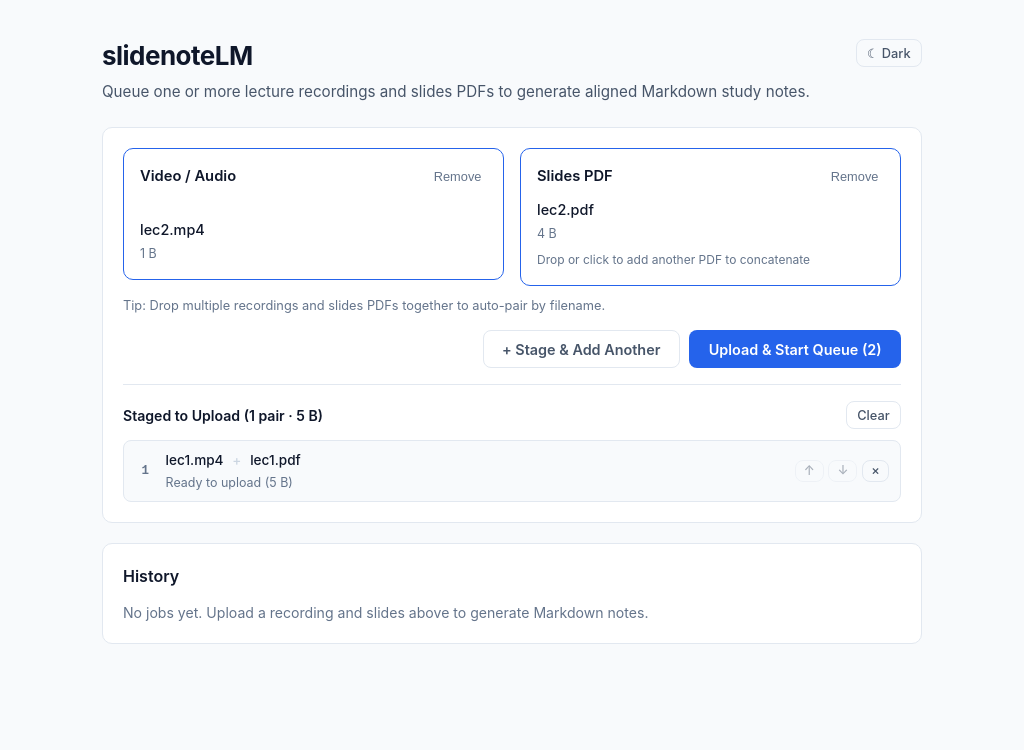
Test: slidenoteLM App › stages multiple pairs, reorders them, and uploads sequentially one at a time
The image size is (1024, 750).
Earlier steps of the test are not shown.
Later steps or results of the test are not shown.
Click the button "+ Stage & Add Another" at x=581, y=349, box [483,330,680,368]
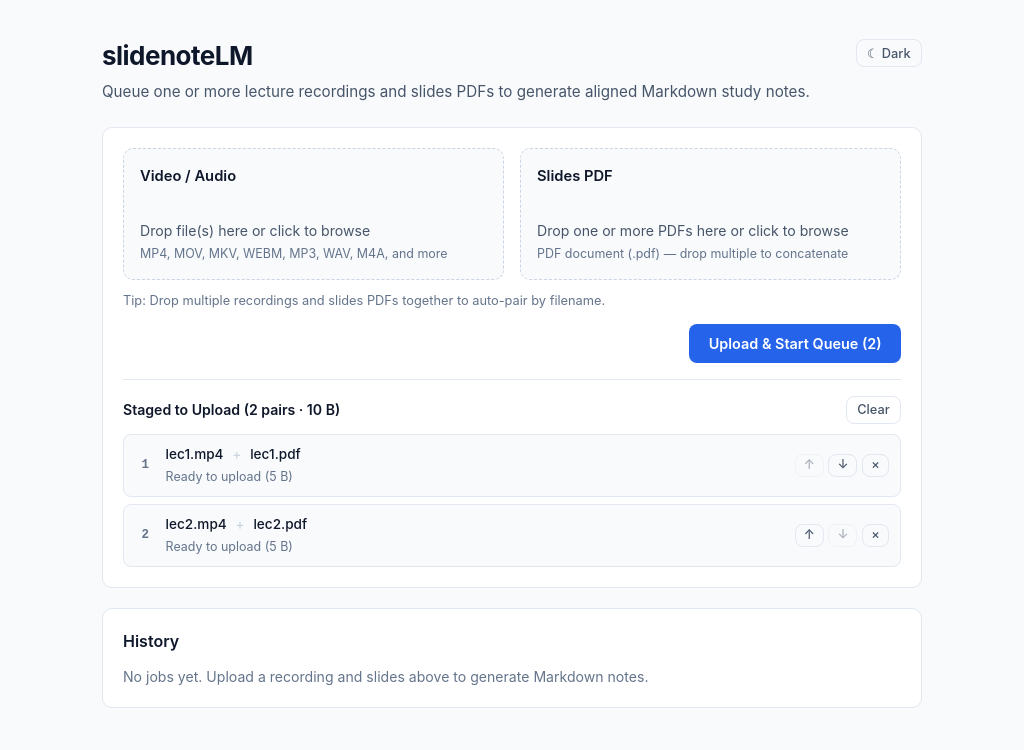
Now the text "Staged to Upload (2 pairs · 10 B)" is shown, box [123,399,340,420]
Click the button named "Move staged pair lec2.pdf up" at x=809, y=535, box [795,524,824,547]
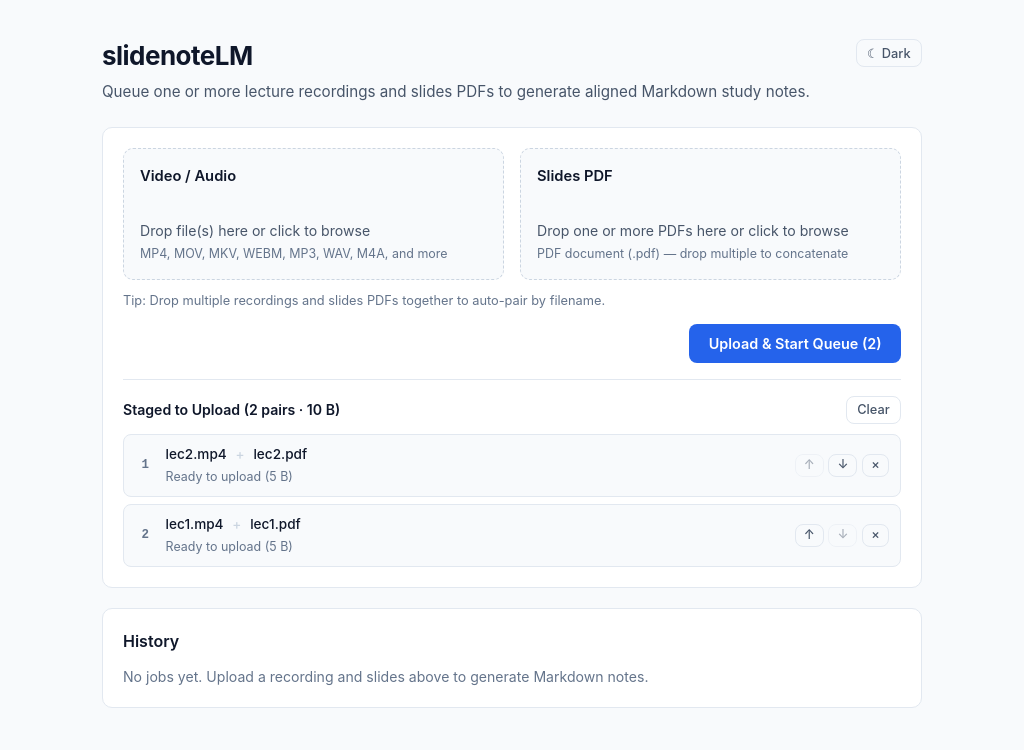
Click the button "Upload & Start Queue (2)" at x=795, y=344, box [689,324,901,363]
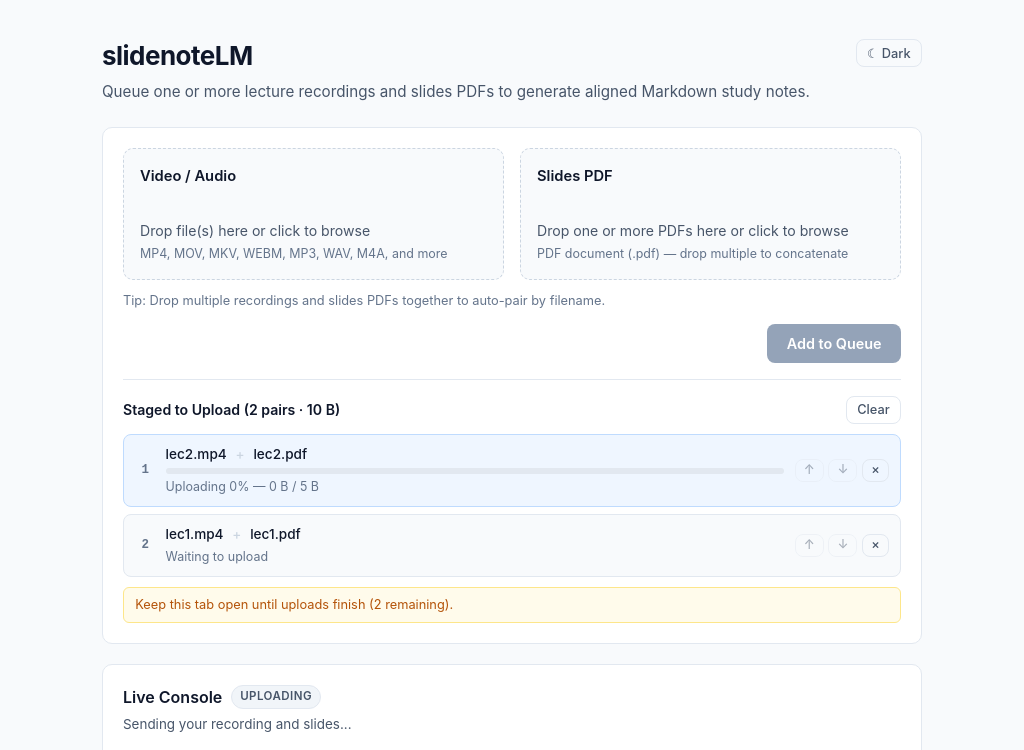
Now the text "Keep this tab open until uploads finish (2 remaining)." is shown, box [123,587,901,623]
